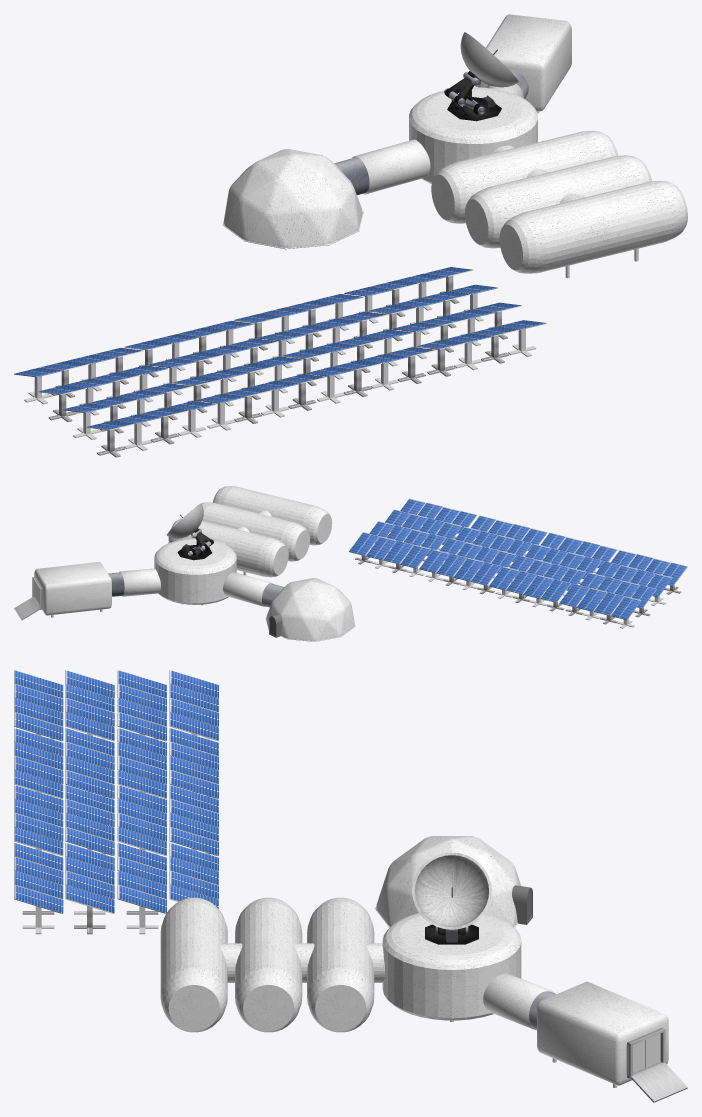
The model's file is НОРМАЛЬНАЯСТАНЦИЯ.fbx.
3 views of the same model, one above another, from view 1: azimuth 30°, elevation 25°; view 2: azimuth 150°, elevation 25°; view 3: azimuth 270°, elevation 25° (orthographic). The views are drawn at different scales.
Parts seen in each view (by area): view 1: Cylinder.017, Icosphere, Cylinder.016, Cylinder, Cylinder.015, Cube, Cylinder.010, Sphere, Cylinder.009; view 2: Icosphere, Cylinder, Cube, Cylinder.017, Cylinder.015, Cylinder.016, Cylinder.010, Cylinder.011, Sphere, Cube.254, Cube.026, Cube.386 (+65 smaller); view 3: Cylinder, Cube, Cylinder.017, Cylinder.015, Cylinder.016, Icosphere, Sphere, Cylinder.011, Cylinder.018, Cube.002, Cube.938, Cube.906 (+63 smaller).
Part boxes in pixels (x1,y1,x2,y2): Cylinder.017: (499, 180, 687, 273); Icosphere: (222, 149, 363, 249); Cylinder.016: (465, 155, 651, 248); Cylinder: (409, 87, 537, 183); Cylinder.015: (431, 130, 618, 223); Cube: (478, 14, 571, 111); Cylinder.010: (352, 139, 430, 194); Sphere: (460, 32, 518, 87); Cylinder.009: (334, 157, 369, 195); Icosphere: (265, 578, 355, 641); Cylinder: (154, 538, 236, 604); Cube: (34, 562, 111, 615); Cylinder.017: (213, 486, 332, 545); Cylinder.015: (168, 518, 288, 577); Cylinder.016: (197, 502, 309, 561); Cylinder.010: (223, 572, 272, 606); Cylinder.011: (119, 568, 160, 596); Sphere: (166, 503, 203, 538); Cube.254: (436, 553, 466, 577); Cube.026: (400, 545, 430, 568); Cube.386: (348, 532, 379, 555); Cylinder: (382, 913, 521, 1020); Cube: (537, 981, 668, 1085); Cylinder.017: (160, 897, 227, 1032); Cylinder.015: (307, 897, 374, 1032); Cylinder.016: (235, 897, 302, 1032); Icosphere: (374, 836, 521, 927); Sphere: (412, 852, 491, 929); Cylinder.011: (483, 973, 554, 1030); Cylinder.018: (220, 943, 384, 982); Cube.002: (631, 1062, 687, 1102); Cube.938: (14, 770, 63, 799); Cube.906: (169, 712, 218, 741).
Bounding box in the file's own units: 3134 × 551 × 2248.
Materials: 128 (126 with a texture image).
